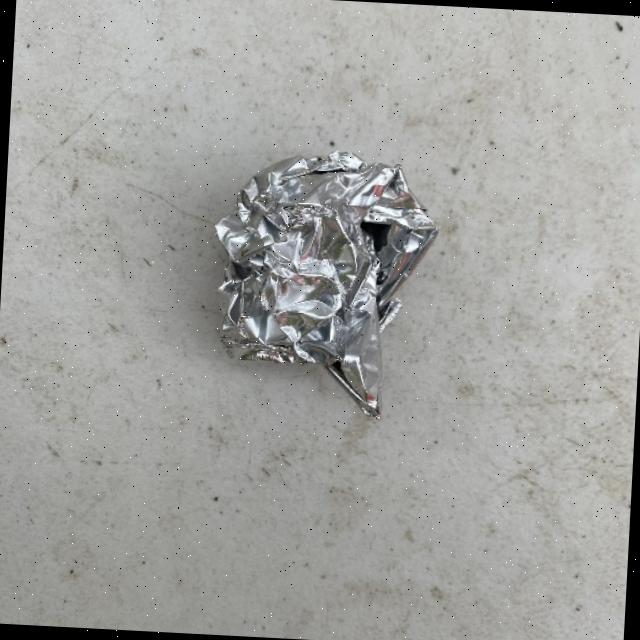metal: (204, 142, 442, 421)
